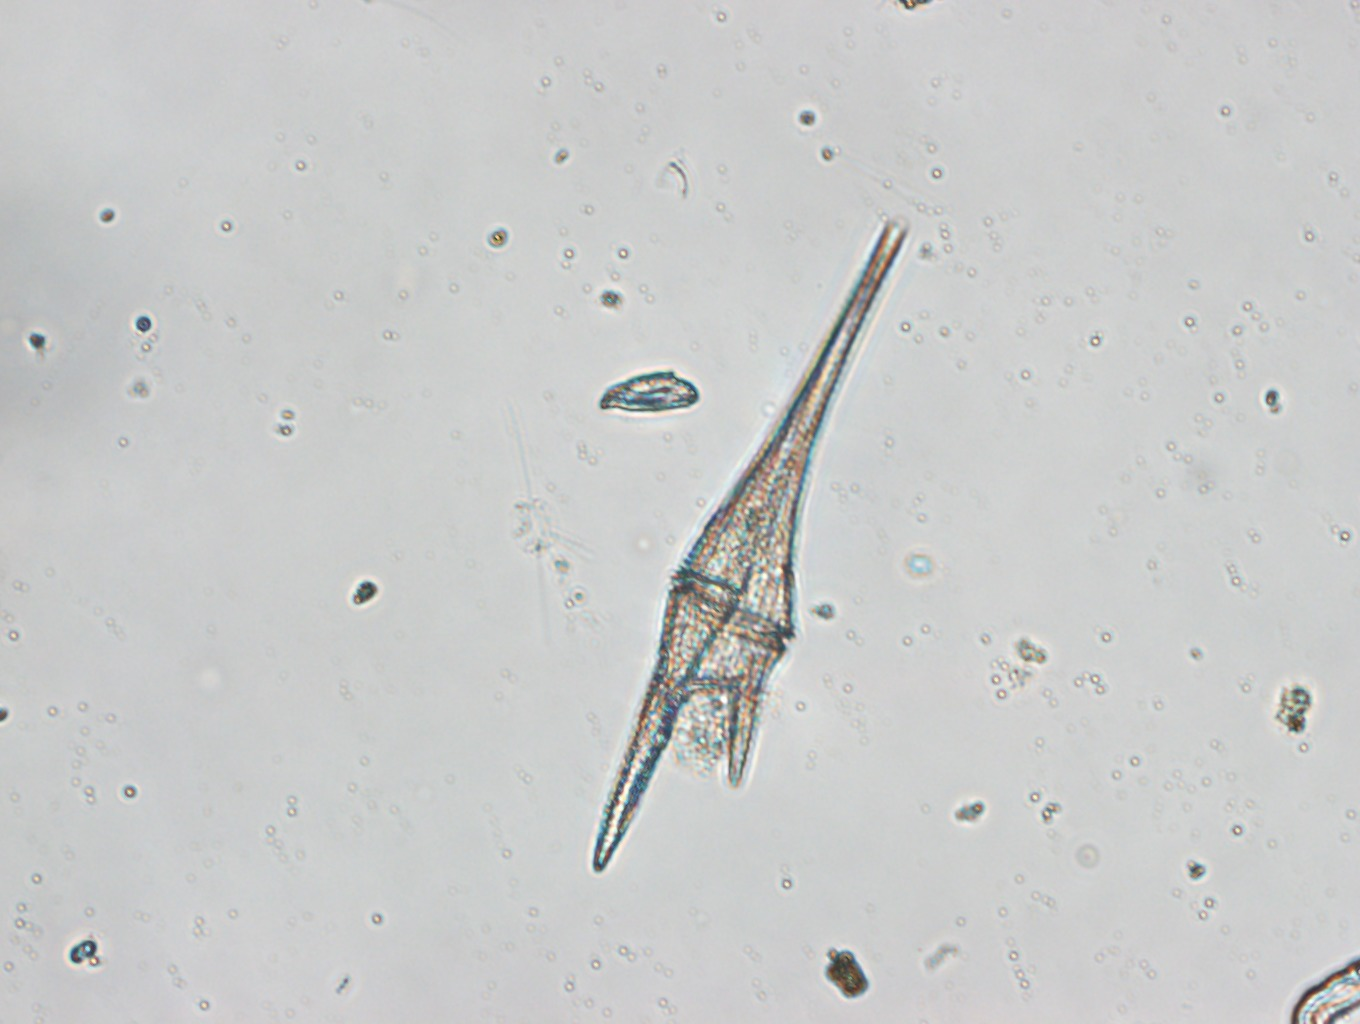ceratium furca: (592, 216, 911, 872)
